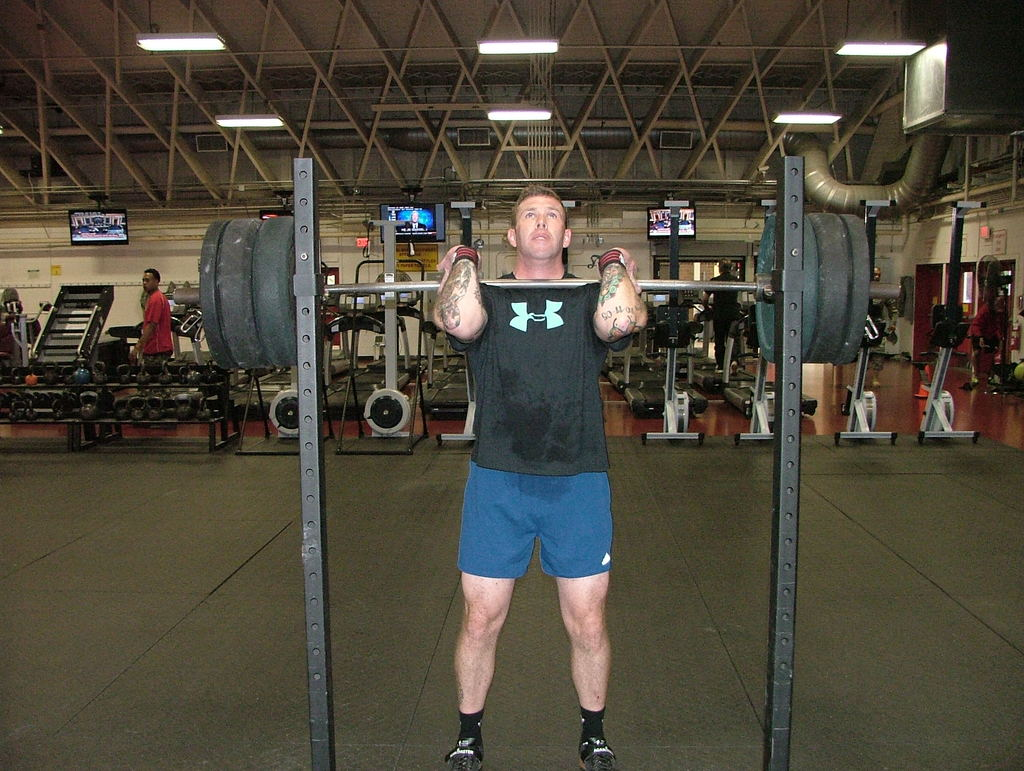Person: (127, 267, 173, 397)
